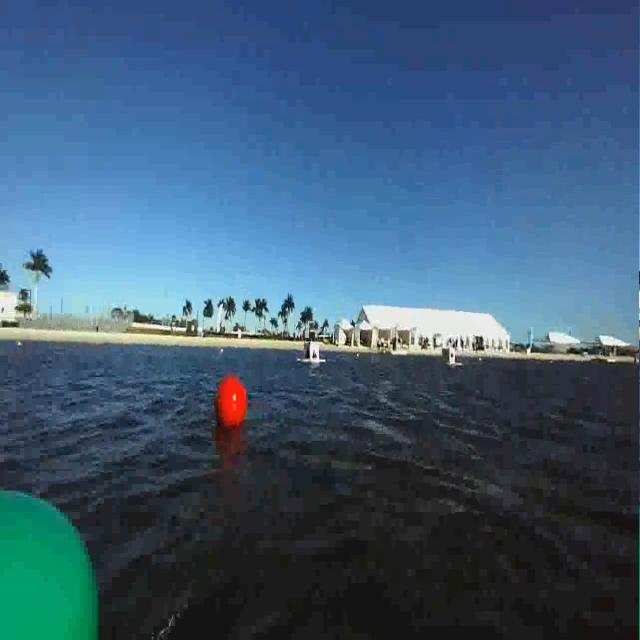green-buoy: (1, 484, 107, 639)
red-buoy: (215, 376, 248, 431)
